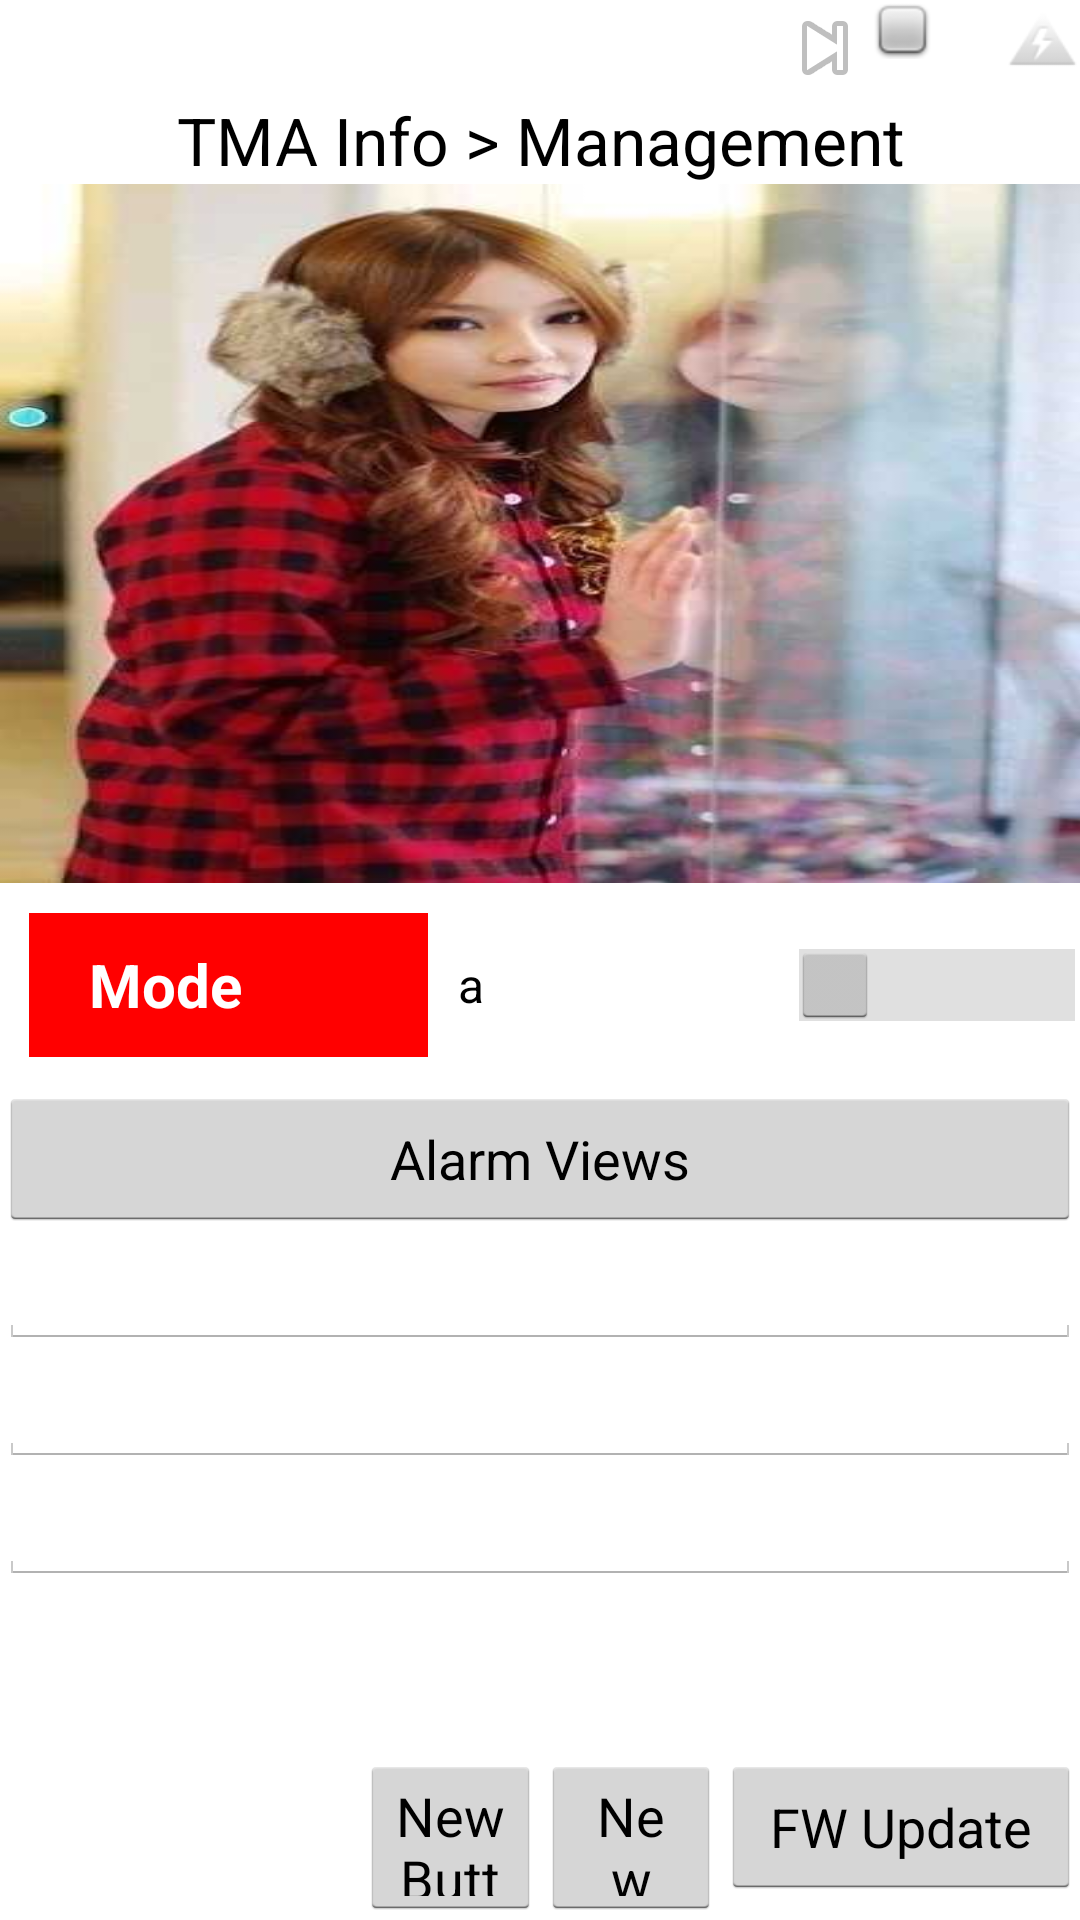

Screen size 1080px×1920px. Icon name, then its center in pixels as (x=x, y=y):
lock idle low battery: (x=1042, y=46)
next: (x=825, y=48)
